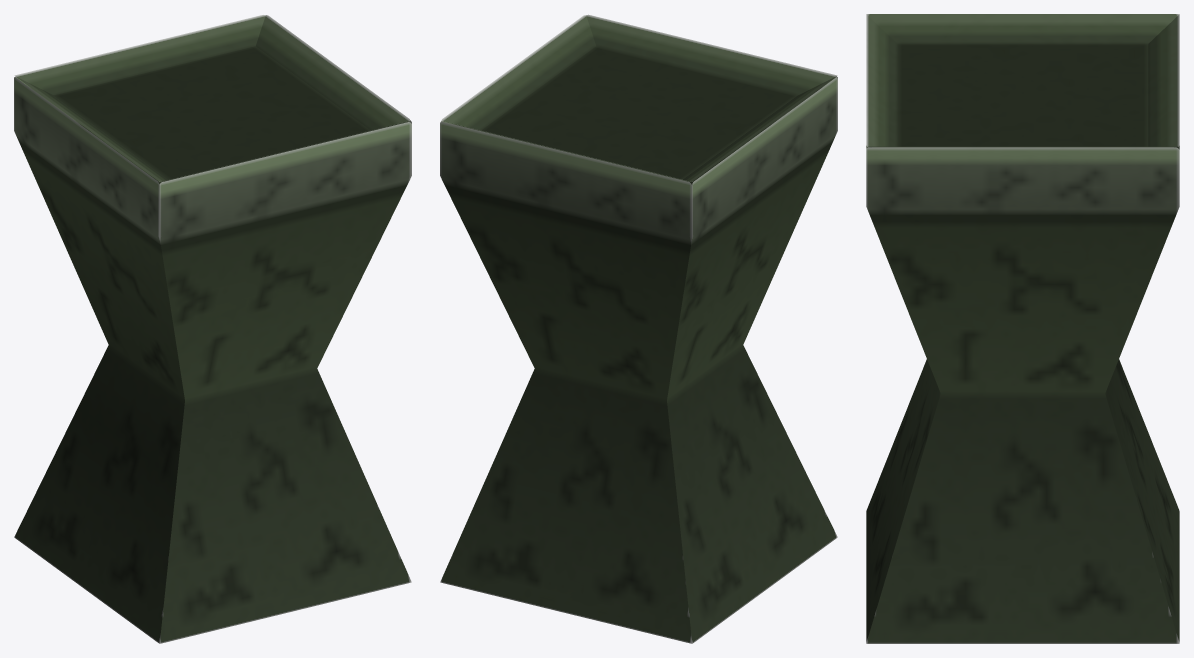
Rendered from brazier.fbx.
The picture shows the model from 3 angles, left to right: view 1: azimuth 30°, elevation 25°; view 2: azimuth 150°, elevation 25°; view 3: azimuth 270°, elevation 25°; orthographic projection. The views are drawn at different scales.
Parts seen in each view (by area): view 1: pCube1; view 2: pCube1; view 3: pCube1.
Boxes of the visible parts, x1=… form: pCube1: x1=14, y1=15, x2=411, y2=643; pCube1: x1=440, y1=14, x2=837, y2=643; pCube1: x1=866, y1=14, x2=1179, y2=643.
Size of the model in its own units: 1 by 1.75 by 1.
